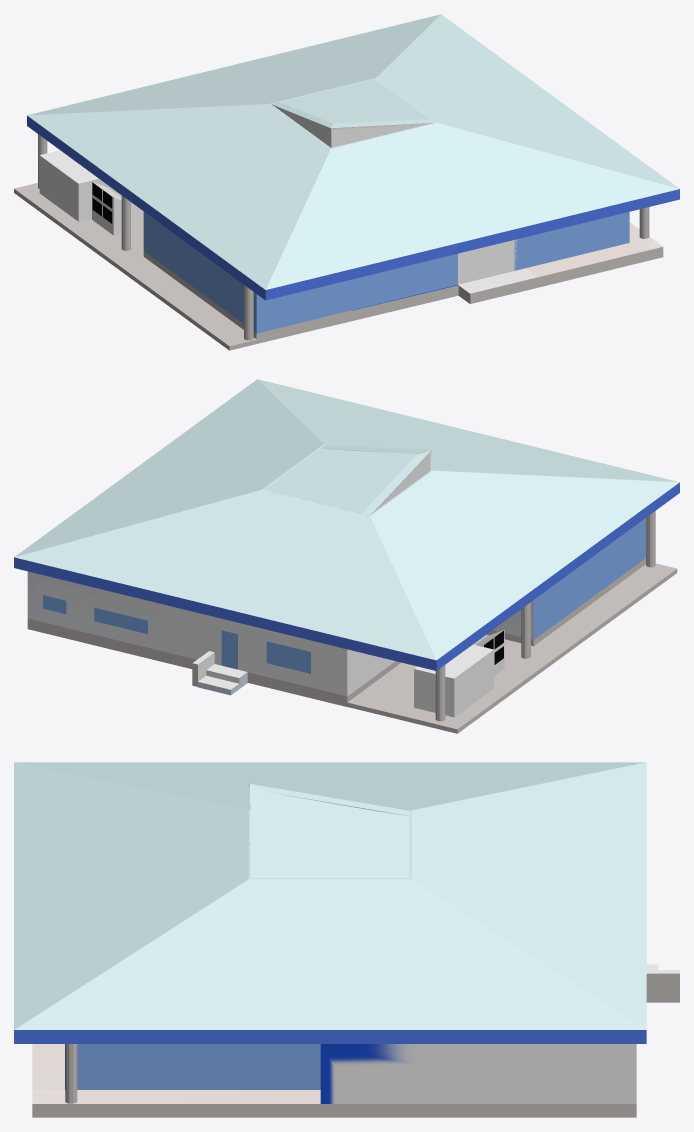
Rendered from syoku.glb.
3 renders of one model, top to bottom at view 1: azimuth 30°, elevation 25°; view 2: azimuth 150°, elevation 25°; view 3: azimuth 270°, elevation 25°, orthographic. The views are drawn at different scales.
Parts seen in each view (by area): view 1: 食堂・屋根・土台, 食堂, 立方体.014, 食堂・屋根・上の部分, 立方体.365, 立方体.366, 立方体.356, 平面.001, 平面.004; view 2: 食堂・屋根・土台, 食堂, 立方体.014, 食堂・屋根・上の部分, 立方体.365, 立方体.357, 平面.002, 平面.001, 平面.004; view 3: 食堂・屋根・土台, 食堂, 食堂・屋根・上の部分, 立方体.356, 立方体.357, 平面.003.
Boxes of the visible parts, bbox=[...] form: 食堂・屋根・土台: bbox=[27, 14, 679, 300]; 食堂: bbox=[143, 211, 663, 339]; 立方体.014: bbox=[14, 183, 351, 350]; 食堂・屋根・上の部分: bbox=[275, 79, 429, 147]; 立方体.365: bbox=[39, 150, 117, 221]; 立方体.366: bbox=[92, 182, 121, 235]; 立方体.356: bbox=[331, 119, 434, 129]; 平面.001: bbox=[121, 195, 130, 250]; 平面.004: bbox=[244, 285, 253, 340]; 食堂・屋根・土台: bbox=[14, 379, 679, 670]; 食堂: bbox=[27, 518, 645, 706]; 立方体.014: bbox=[347, 563, 677, 733]; 食堂・屋根・上の部分: bbox=[265, 448, 430, 513]; 立方体.365: bbox=[414, 644, 493, 717]; 立方体.357: bbox=[362, 450, 431, 515]; 平面.002: bbox=[435, 665, 445, 721]; 平面.001: bbox=[521, 602, 530, 658]; 平面.004: bbox=[646, 511, 655, 567]; 食堂・屋根・土台: bbox=[14, 762, 646, 1043]; 食堂: bbox=[32, 964, 679, 1117]; 食堂・屋根・上の部分: bbox=[263, 792, 409, 877]; 立方体.356: bbox=[250, 784, 265, 877]; 立方体.357: bbox=[249, 784, 409, 816]; 平面.003: bbox=[65, 1044, 77, 1103].
Bounding box in the file's own units: 6.74 × 1.95 × 6.8.
Materials: 1 (1 with a texture image).
